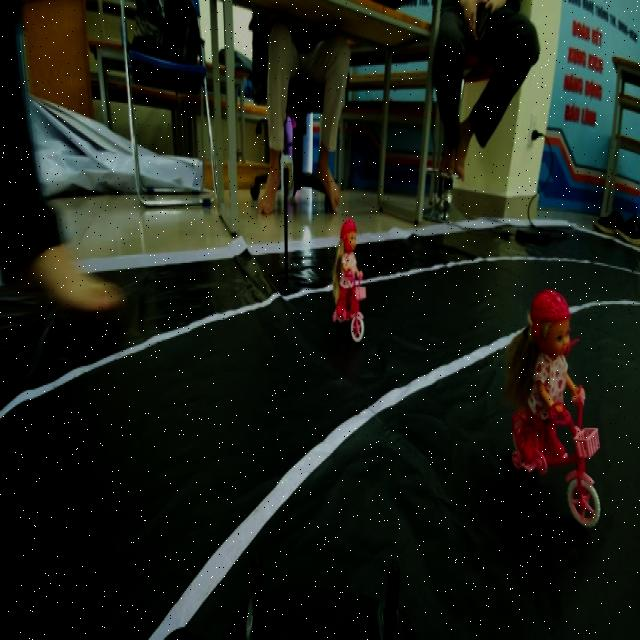pedestrian: (504, 273, 606, 538), (327, 216, 371, 343)
